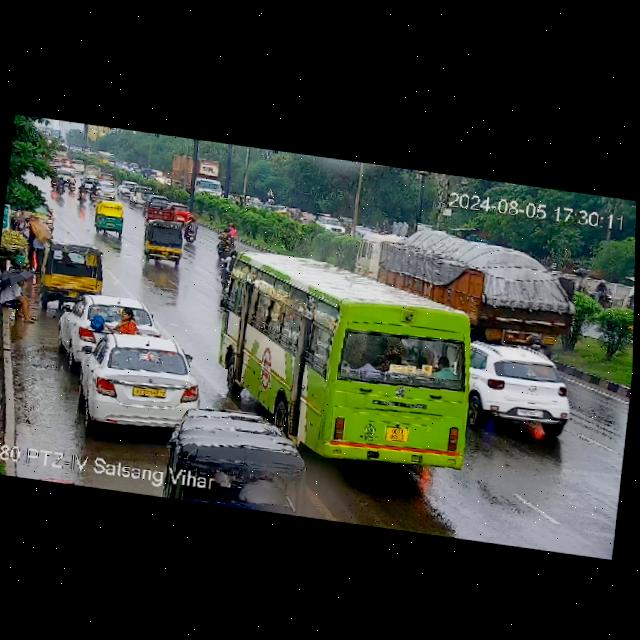bus: (196, 234, 493, 509)
car: (76, 329, 206, 439), (54, 293, 154, 367), (43, 243, 105, 297), (143, 219, 185, 263), (92, 200, 125, 237), (312, 215, 345, 235), (93, 182, 117, 202), (146, 195, 172, 212), (83, 165, 102, 181), (54, 167, 77, 179), (97, 173, 115, 185)
motorcycle: (47, 169, 91, 209), (181, 213, 200, 247), (223, 223, 240, 243)
person: (0, 264, 43, 325), (14, 207, 43, 260), (109, 307, 144, 336)
truck: (352, 216, 570, 349), (463, 338, 579, 445), (166, 153, 225, 197), (195, 177, 223, 197)
